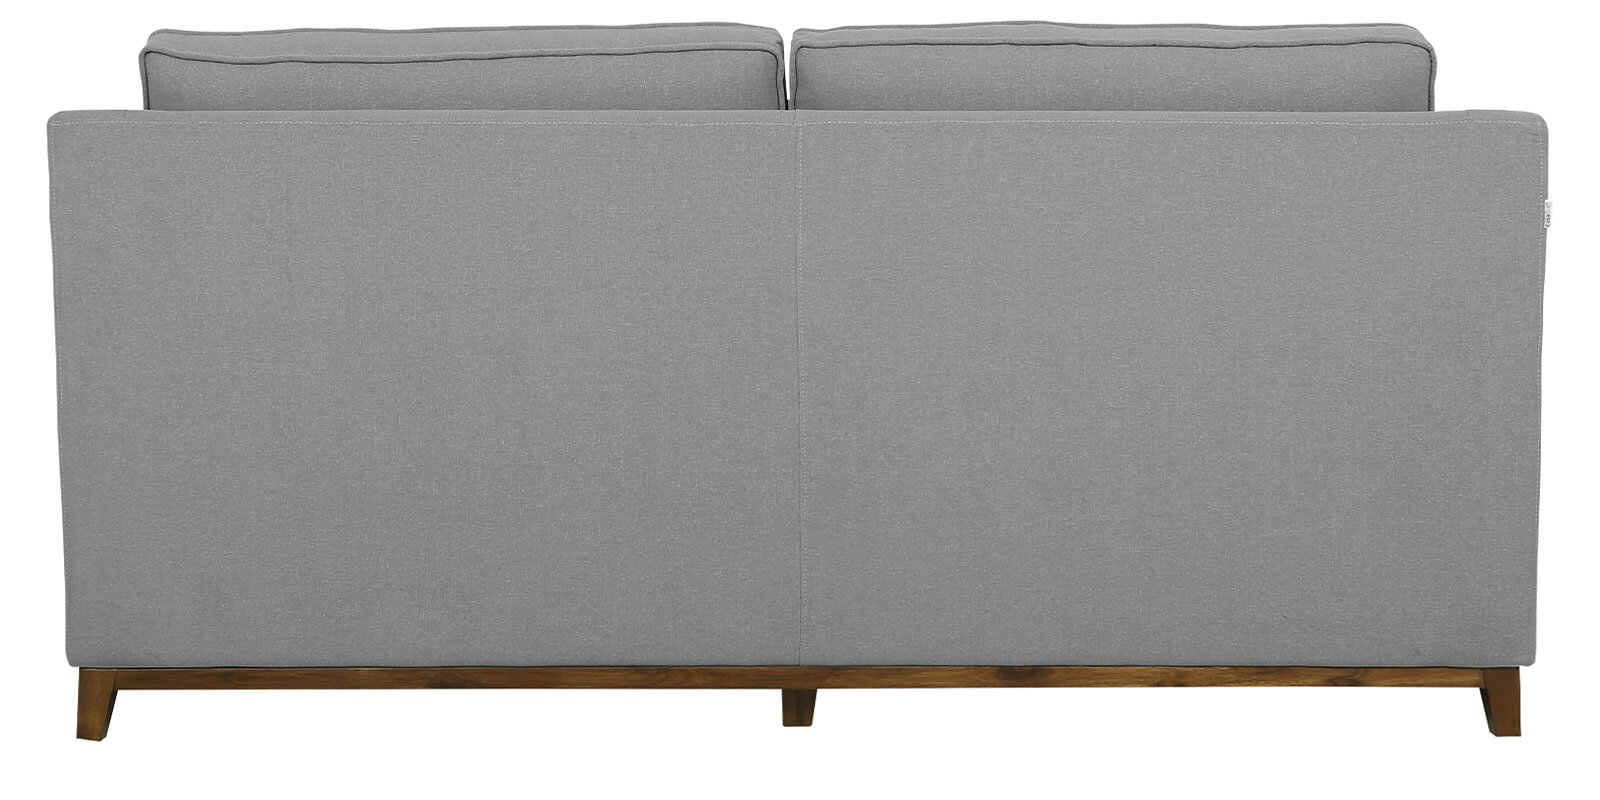Diego Three Seater Sofa in Ash Grey Colour by CasaCraft: (33, 24, 1563, 772)
